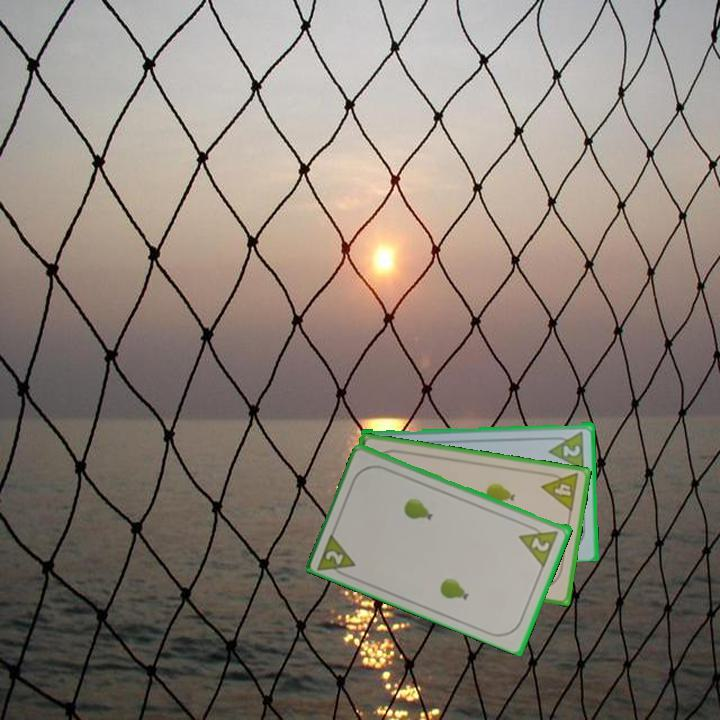2p: (314, 528, 359, 581), (516, 519, 562, 568), (546, 427, 587, 471)
4p: (538, 468, 582, 514)
